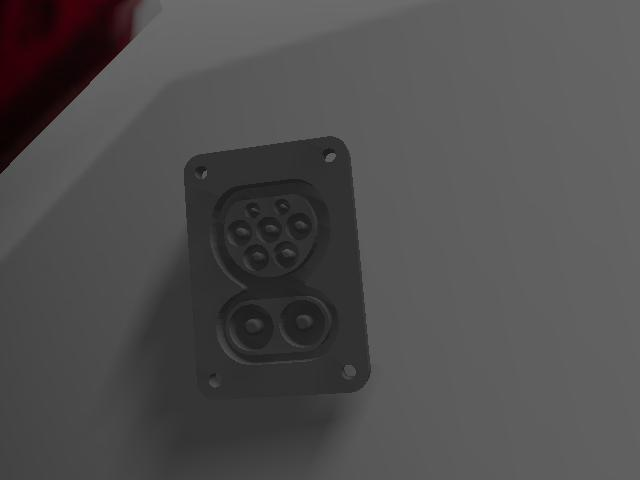EV-socket: (180, 132, 375, 399)
